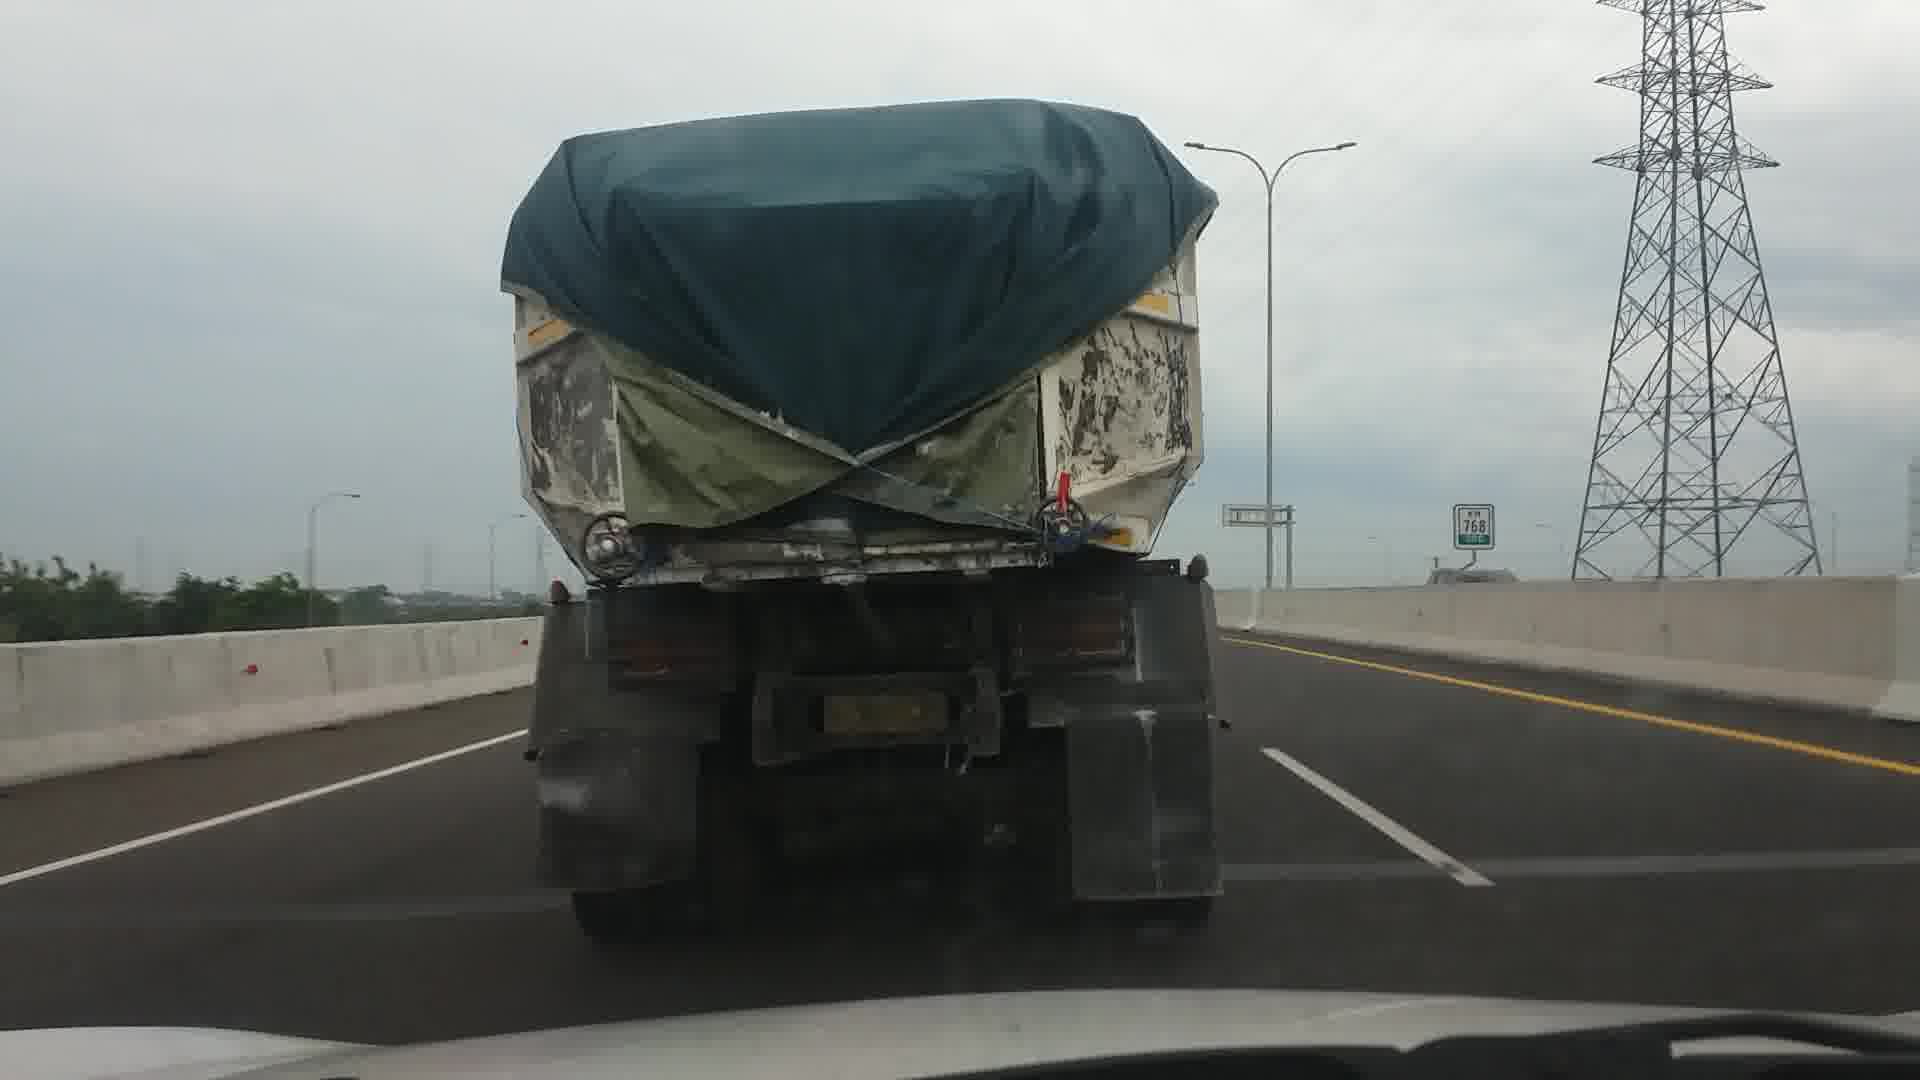plate_positive: (824, 694, 947, 735)
